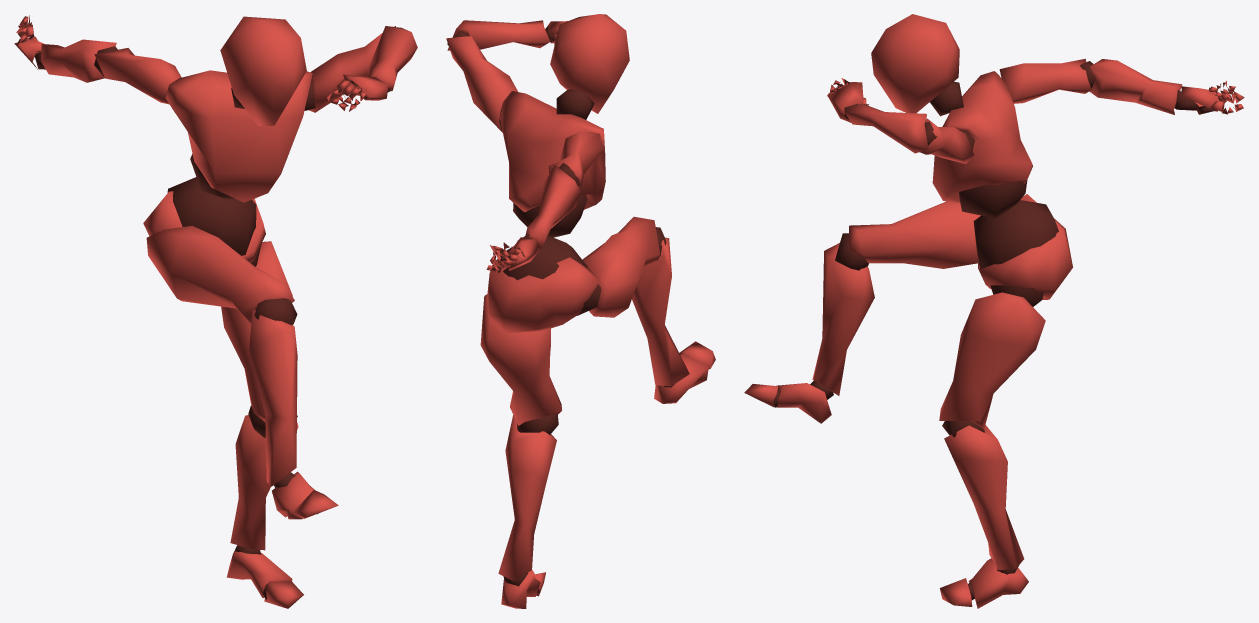
The picture shows the model from 3 angles, left to right: view 1: azimuth 30°, elevation 25°; view 2: azimuth 150°, elevation 25°; view 3: azimuth 270°, elevation 25°; orthographic projection. The views are drawn at different scales.
Visible parts, largest first — view 1: Beta_Surface; view 2: Beta_Surface; view 3: Beta_Surface.
Part boxes in pixels (x1,y1,x2,y2): Beta_Surface: [14, 15, 417, 608]; Beta_Surface: [446, 14, 715, 608]; Beta_Surface: [744, 14, 1244, 608].
Size of the model in its own units: 6.11 by 15.09 by 12.06.
